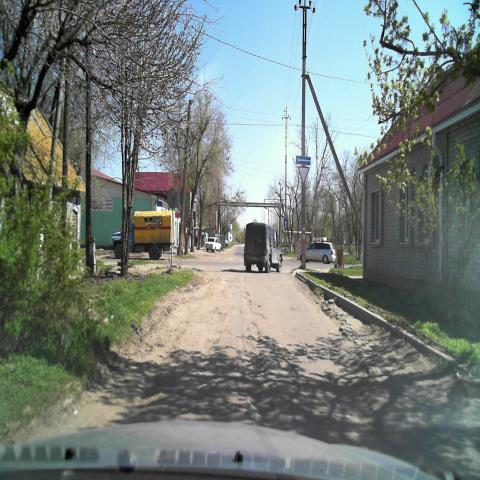5_7_2: (295, 154, 311, 164)
